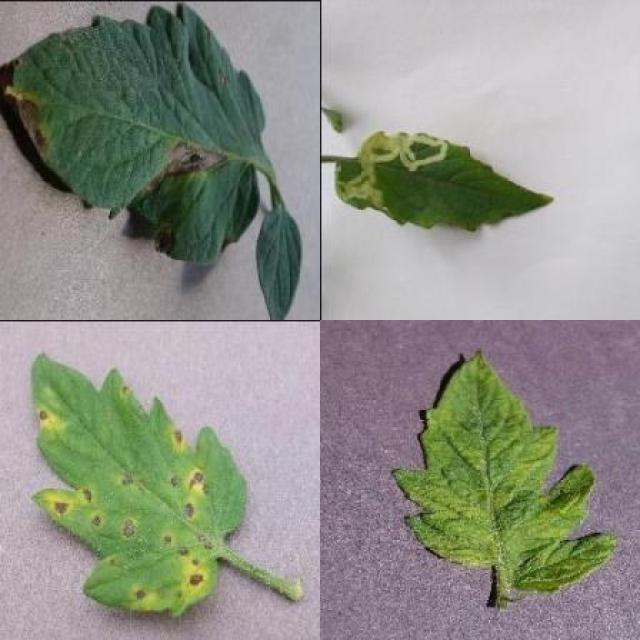Early Blight: (1, 0, 263, 266)
Healthy: (254, 207, 302, 320)
Leaf Miner: (334, 128, 552, 235)
Mosaic Virus: (390, 348, 616, 593)
Septoria: (32, 351, 248, 613)
